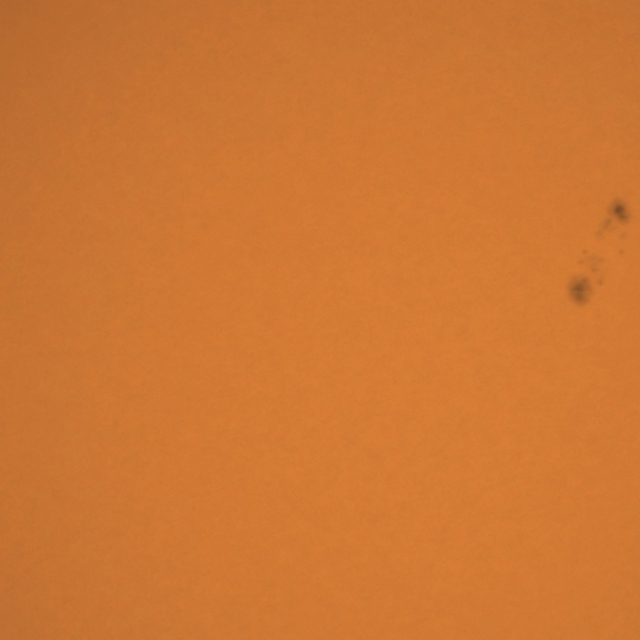sunspot: (573, 246, 608, 296), (568, 268, 605, 308), (606, 197, 632, 234)
